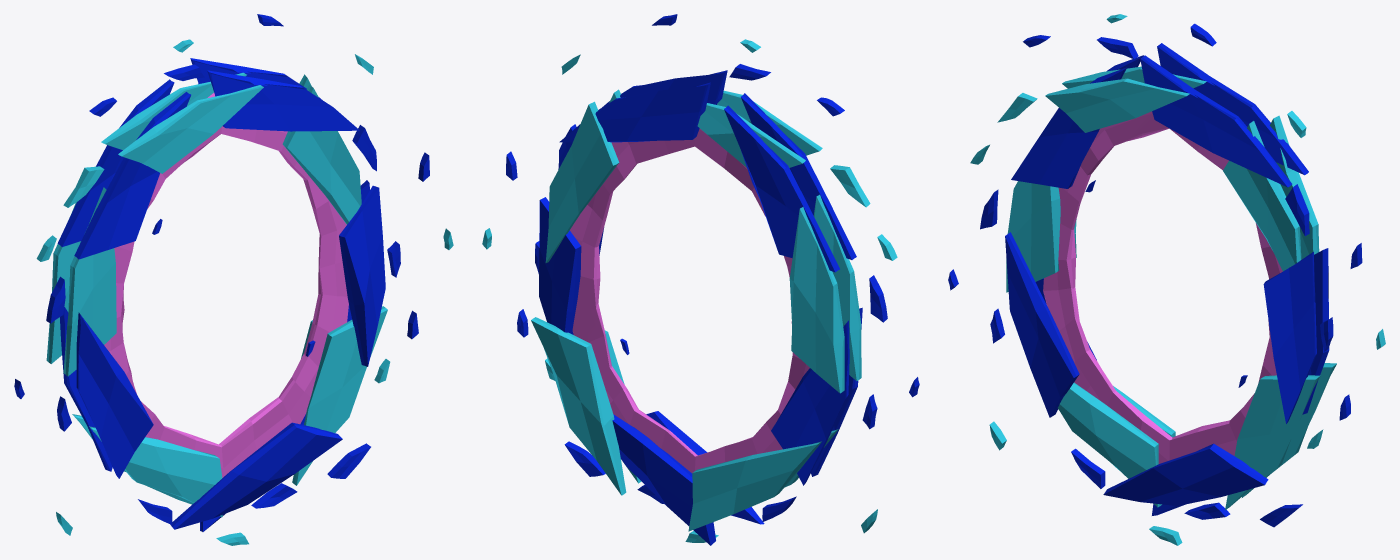
File: Portal.fbx
3 renders of one model, left to right at view 1: azimuth 30°, elevation 25°; view 2: azimuth 150°, elevation 25°; view 3: azimuth 330°, elevation 25°, orthographic.
Parts seen in each view (by area): view 1: portel_Plane.005; view 2: portel_Plane.005; view 3: portel_Plane.005.
Part boxes in pixels (x1=…): portel_Plane.005: x1=14, y1=14, x2=453, y2=545; portel_Plane.005: x1=482, y1=14, x2=919, y2=545; portel_Plane.005: x1=948, y1=14, x2=1385, y2=545.
Size of the model in its own units: 1372 by 1581 by 206.
